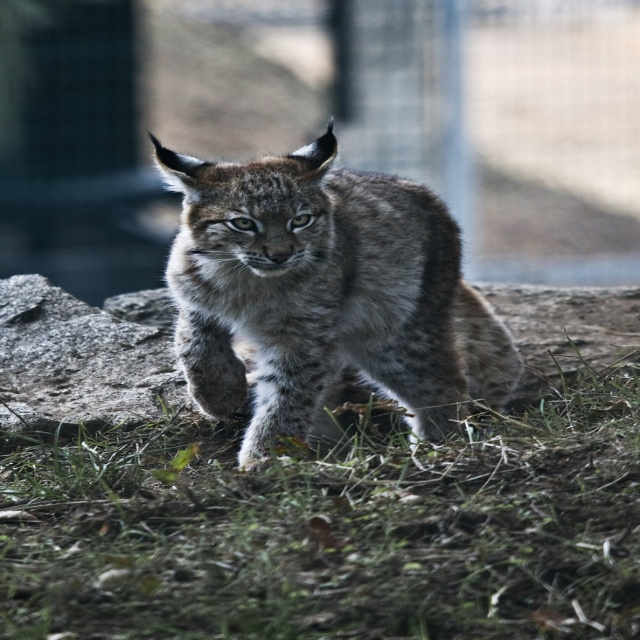Lynx: (141, 113, 523, 474)
